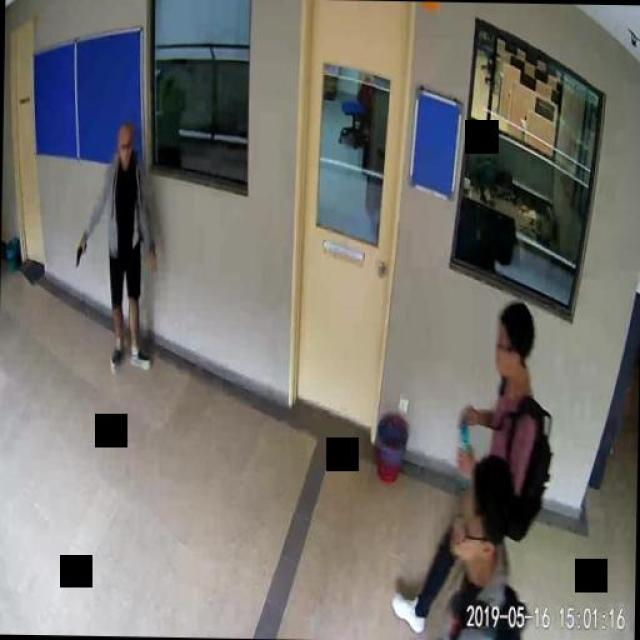gun: (75, 242, 85, 268)
